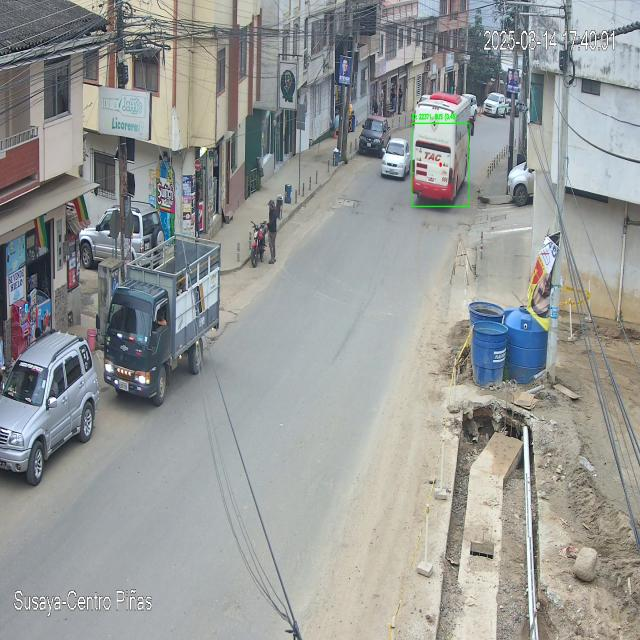SUV: (0, 332, 98, 486)
TRUCK: (103, 235, 221, 407)
